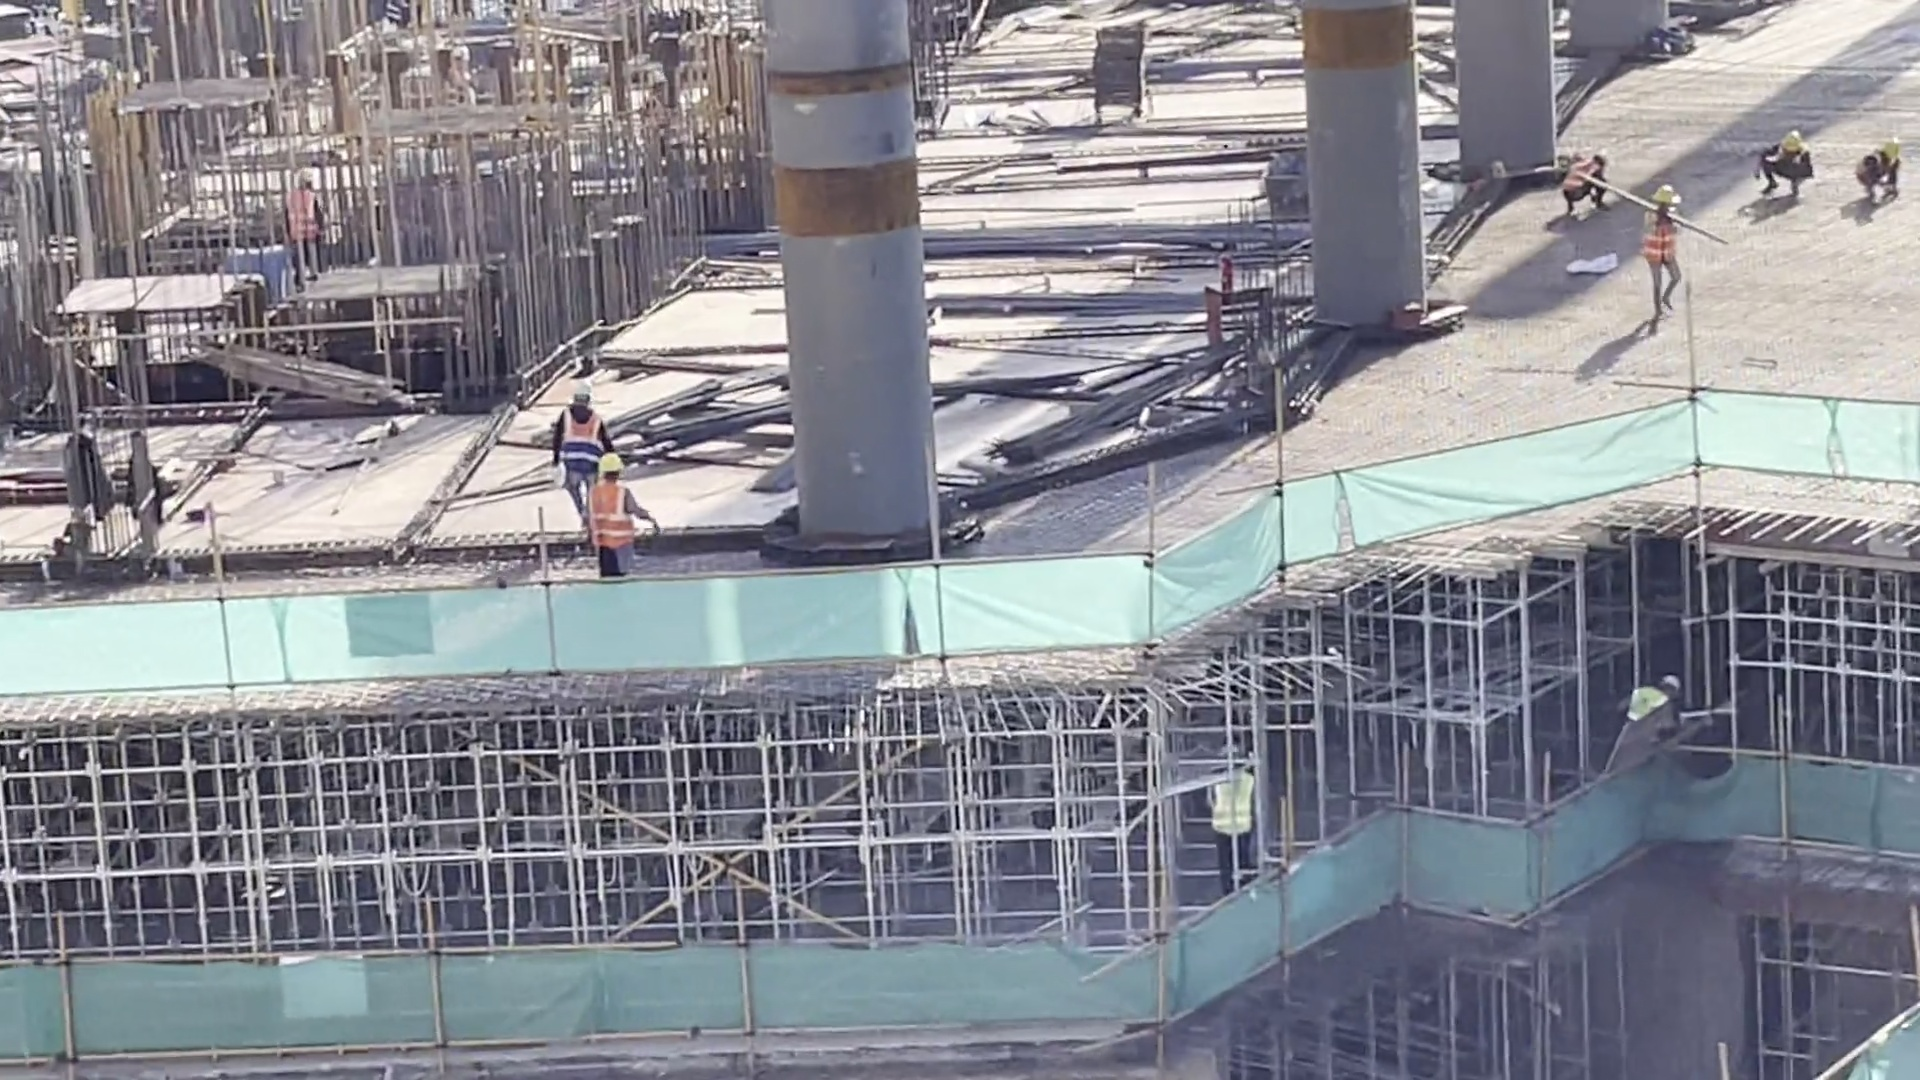helmet: (566, 368, 595, 408), (296, 169, 323, 200), (1215, 749, 1252, 772), (1656, 180, 1682, 205), (1782, 127, 1801, 158), (1878, 139, 1904, 161), (599, 454, 626, 475), (1599, 145, 1619, 165), (1662, 672, 1680, 691)
person: (1210, 750, 1284, 898), (1633, 185, 1707, 330), (593, 456, 670, 591), (286, 171, 355, 298), (564, 382, 612, 516), (1626, 678, 1712, 746), (1752, 124, 1817, 209), (1567, 149, 1621, 220), (1860, 141, 1911, 212)
rebar: (1021, 340, 1233, 461), (919, 207, 1306, 260), (904, 287, 1248, 326), (623, 378, 732, 435), (658, 411, 790, 449), (924, 366, 1082, 393)
vest: (280, 194, 333, 250), (1206, 767, 1255, 824), (1644, 203, 1677, 262), (598, 479, 633, 530), (1568, 154, 1605, 201), (1629, 691, 1674, 726), (558, 416, 586, 464)
